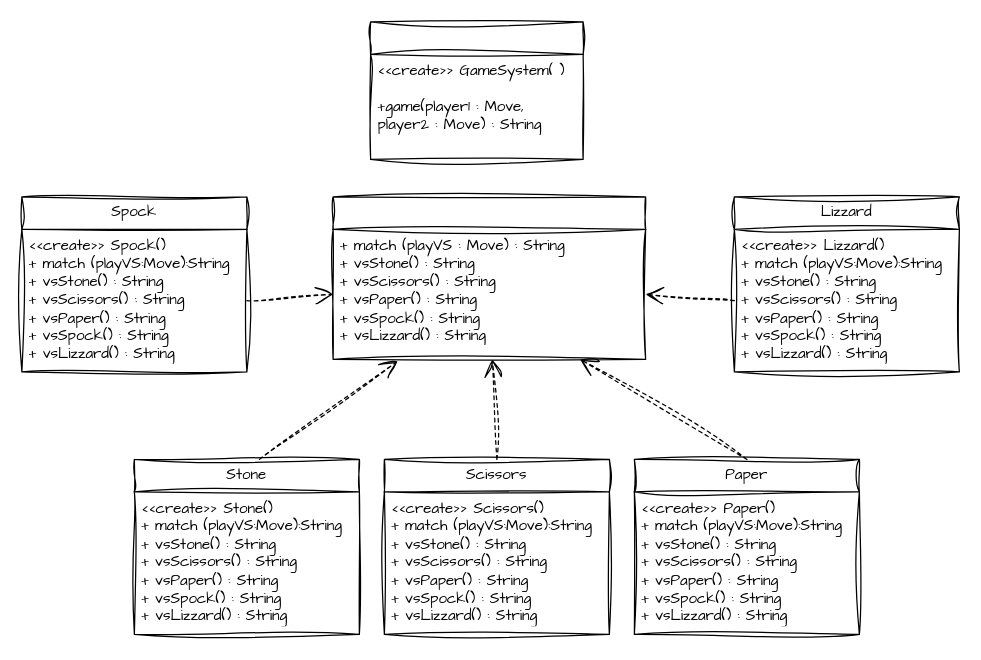
Some shapes in this 981 by 660 pixel diagram are drawn without their labels. The box of each missing label's shape, as (x1, y1, x2, y2) in pixels:
<<Interface>> Move: (332, 196, 646, 359)
GameSytem: (369, 21, 583, 159)
